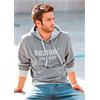abbigliamento_uomo: (18, 23, 74, 84)
